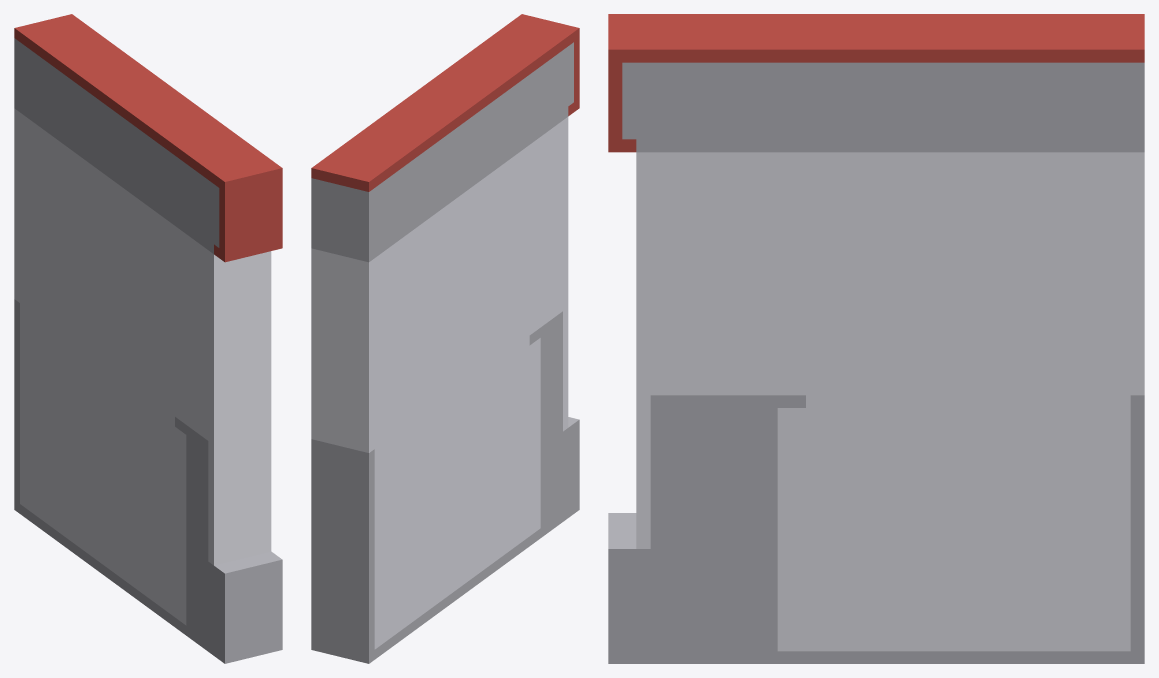
Rendered from pokemon-center-6.obj.
3 views of the same model, side by side, from view 1: azimuth 30°, elevation 25°; view 2: azimuth 150°, elevation 25°; view 3: azimuth 270°, elevation 25° (orthographic). The views are drawn at different scales.
Size of the model in its own units: 0.6 by 4.8 by 3.8.
1 material, 1 textured.
